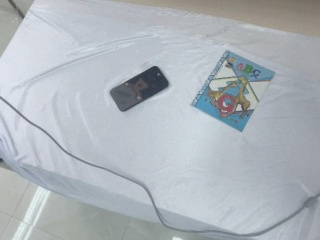book: (189, 48, 277, 134)
phone: (109, 65, 170, 112)
